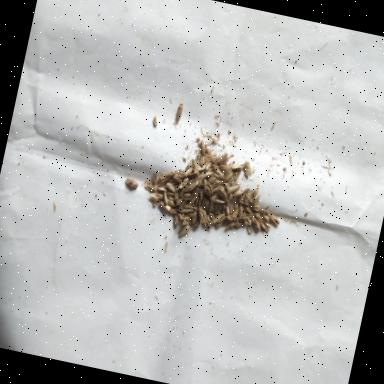pbw: (216, 150, 234, 168), (200, 178, 216, 195), (215, 186, 232, 202), (176, 223, 191, 240), (162, 168, 176, 186), (224, 220, 242, 234), (196, 206, 207, 225), (176, 176, 189, 192), (228, 168, 240, 185), (154, 171, 166, 188), (196, 188, 204, 213), (237, 187, 248, 205), (257, 207, 272, 220), (222, 168, 234, 184), (203, 214, 215, 230), (230, 202, 240, 221), (174, 104, 183, 125), (176, 213, 190, 226), (212, 211, 226, 224), (198, 139, 208, 157), (222, 205, 234, 220), (268, 214, 281, 227), (226, 183, 240, 195), (124, 178, 138, 190), (251, 218, 263, 232), (200, 210, 210, 226), (250, 184, 260, 200), (206, 196, 216, 212), (212, 168, 225, 180), (203, 166, 214, 180), (190, 160, 201, 174), (250, 193, 261, 207), (148, 193, 162, 204), (143, 184, 158, 194), (244, 188, 252, 206), (190, 220, 200, 234), (231, 162, 245, 172), (213, 202, 223, 216), (158, 201, 172, 211), (170, 214, 180, 228), (172, 184, 180, 201), (164, 182, 177, 192), (204, 147, 214, 160), (210, 196, 226, 204), (150, 170, 158, 186), (161, 192, 170, 206), (178, 198, 186, 213), (244, 206, 256, 216), (176, 168, 186, 180), (210, 178, 222, 188), (186, 194, 196, 206), (240, 212, 252, 222), (261, 218, 272, 228), (174, 195, 184, 206), (237, 205, 244, 220), (231, 189, 242, 198), (179, 207, 193, 214), (190, 211, 197, 225), (184, 166, 192, 178), (186, 157, 194, 169), (194, 152, 201, 165), (246, 224, 254, 235), (157, 184, 168, 192), (183, 204, 197, 210), (201, 194, 208, 206), (250, 205, 262, 212), (198, 156, 206, 166), (196, 164, 206, 172), (172, 176, 182, 184), (152, 116, 158, 128), (168, 207, 178, 214), (245, 218, 253, 226), (153, 192, 163, 198), (227, 192, 233, 200), (178, 191, 184, 198), (194, 196, 198, 206)
